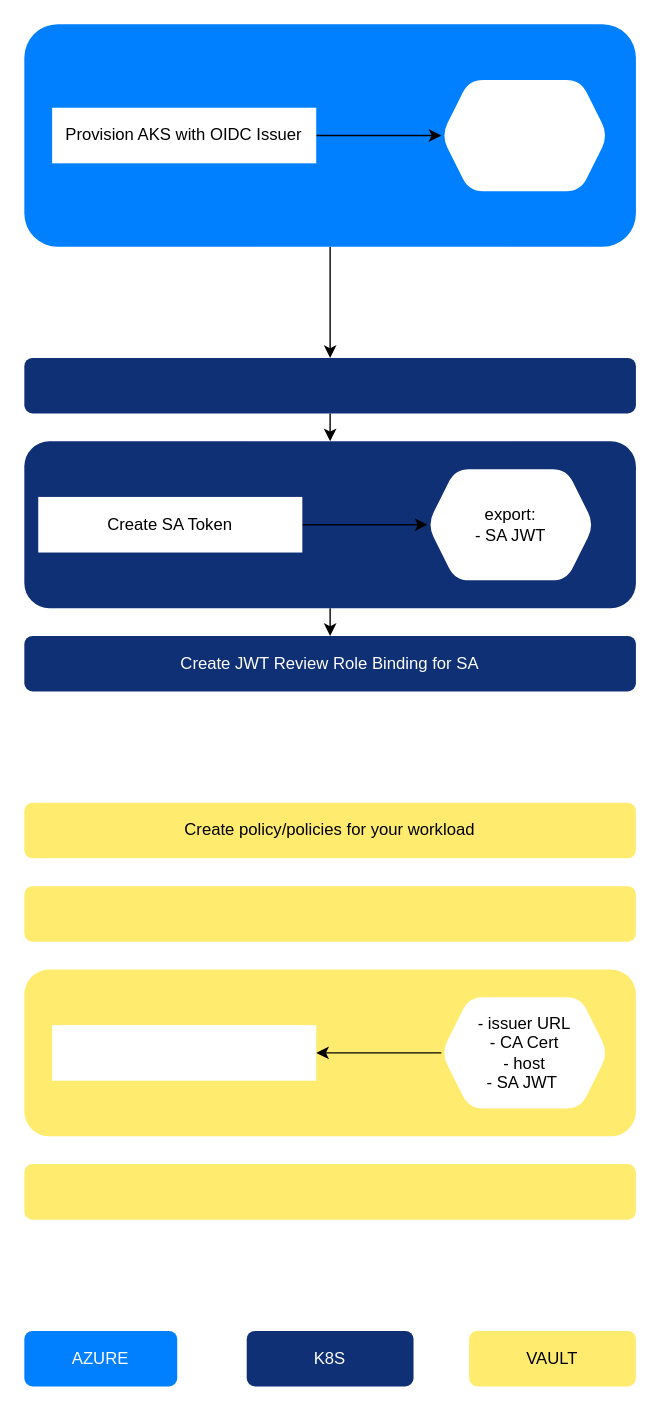
The diagram is 659 pixels wide and 1409 high, and some of its shapes have lost their labels. Here are the shapes that lost their labels. From the top down, the centre of each, then its label:
At (524,134): "export: - issuer URL - CA Cert - host".
At (329,385): "Create Service Account".
At (329,913): "Enable kubernetes auth".
At (183,1052): "Setup auth config".
At (329,1191): "Create auth role for your workload".
